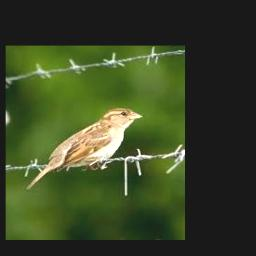Sparrow: (25, 107, 143, 189)
